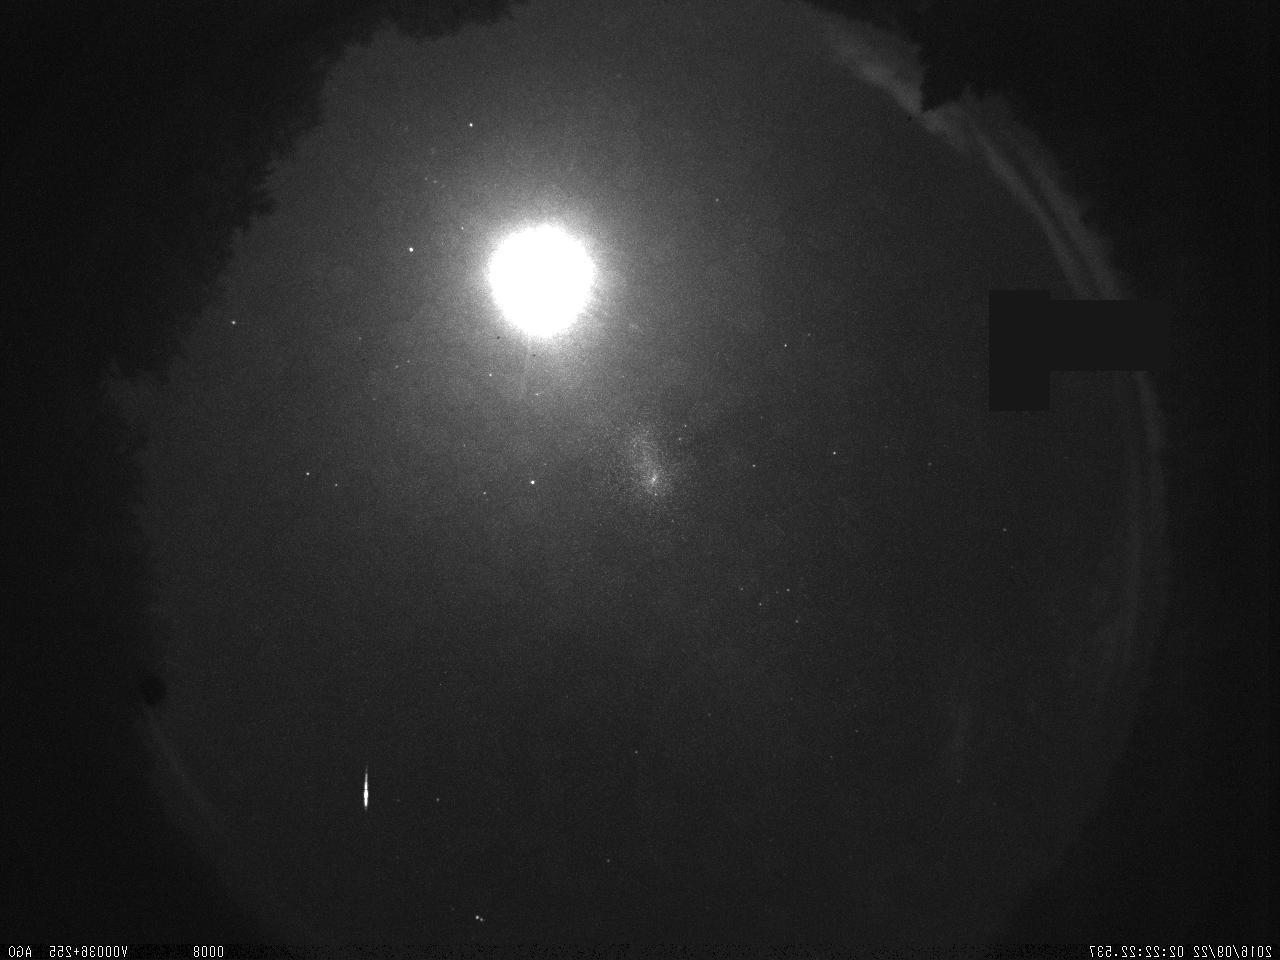meteor: (345, 759, 390, 815)
